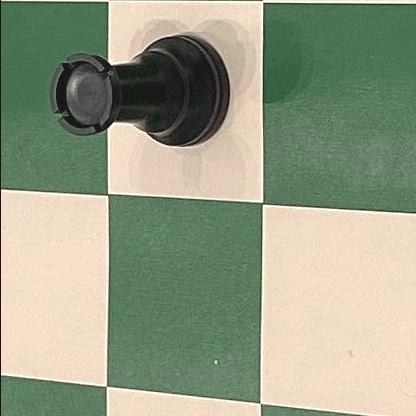black-rook: (48, 29, 235, 151)
